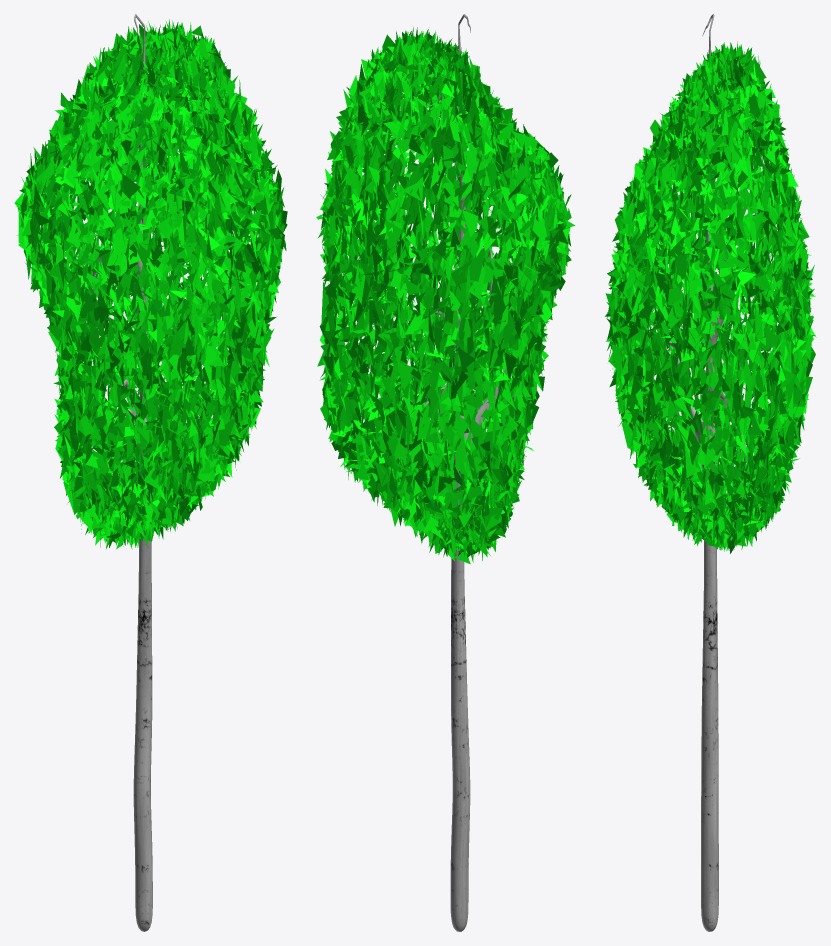
The model's file is Leaves11.001.fbx.
3 views of the same model, side by side, from view 1: azimuth 30°, elevation 25°; view 2: azimuth 150°, elevation 25°; view 3: azimuth 270°, elevation 25° (orthographic).
Visible parts, largest first — view 1: Leaves11.001; view 2: Leaves11.001; view 3: Leaves11.001.
Part boxes in pixels (bbox=[...]): Leaves11.001: bbox=[14, 14, 287, 931]; Leaves11.001: bbox=[316, 14, 575, 931]; Leaves11.001: bbox=[605, 14, 816, 931].
Size of the model in its own units: 739 by 2612 by 550.
Materials: 2 (1 with a texture image).
